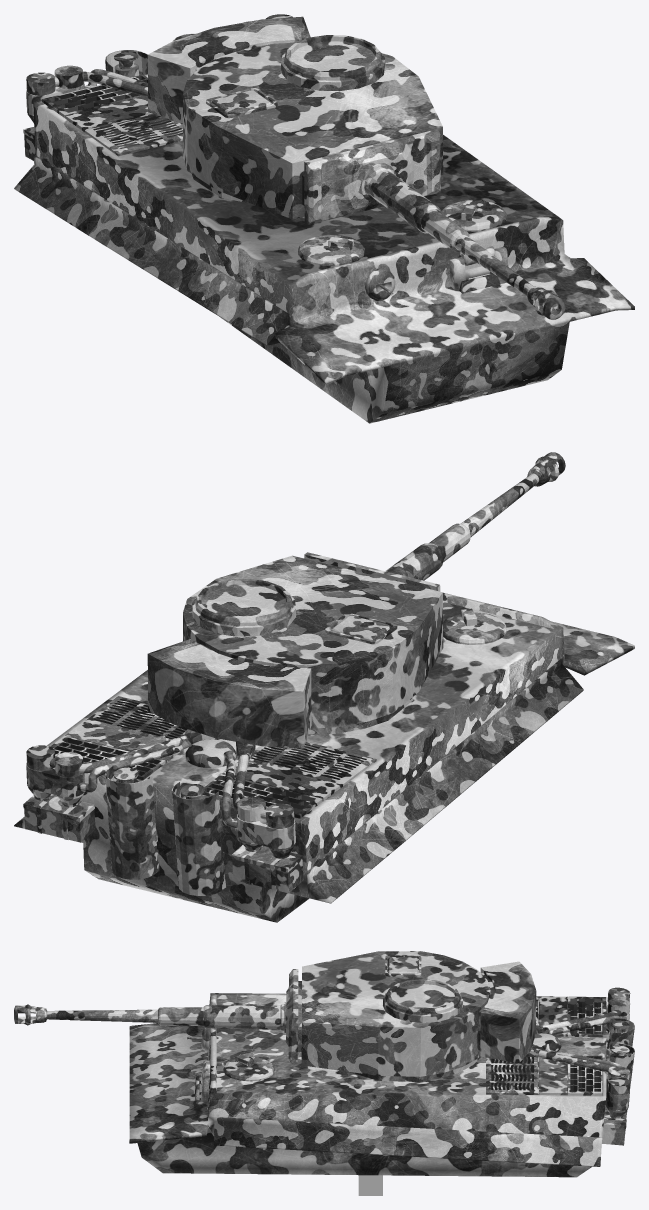
Rendered from Tiger 1_Body.fbx.
The picture shows the model from 3 angles, top to bottom: view 1: azimuth 30°, elevation 25°; view 2: azimuth 150°, elevation 25°; view 3: azimuth 270°, elevation 25°; orthographic projection. The views are drawn at different scales.
Visible parts, largest first — view 1: Body, Head, Body_Sub, Gun_Shield, Gun; view 2: Body, Head, Body_Sub, Gun, Gun_Shield; view 3: Body, Head, Body_Sub, Gun_Shield, Gun, root_body.
Boxes of the visible parts, x1,y1,x2,y2 form: Body: (14,74,634,423); Head: (147,16,443,219); Body_Sub: (23,14,506,266); Gun_Shield: (304,129,442,233); Gun: (420,209,565,319); Body: (14,592,634,922); Head: (147,555,443,748); Body_Sub: (23,608,506,895); Gun: (429,452,565,562); Gun_Shield: (304,543,443,591); Body: (129,993,606,1177); Head: (298,951,536,1081); Body_Sub: (223,987,634,1145); Gun_Shield: (203,969,298,1064); Gun: (14,1004,203,1025); root_body: (358,1175,382,1195).
Size of the model in its own units: 370 by 311 by 821.
1 material, 1 textured.
